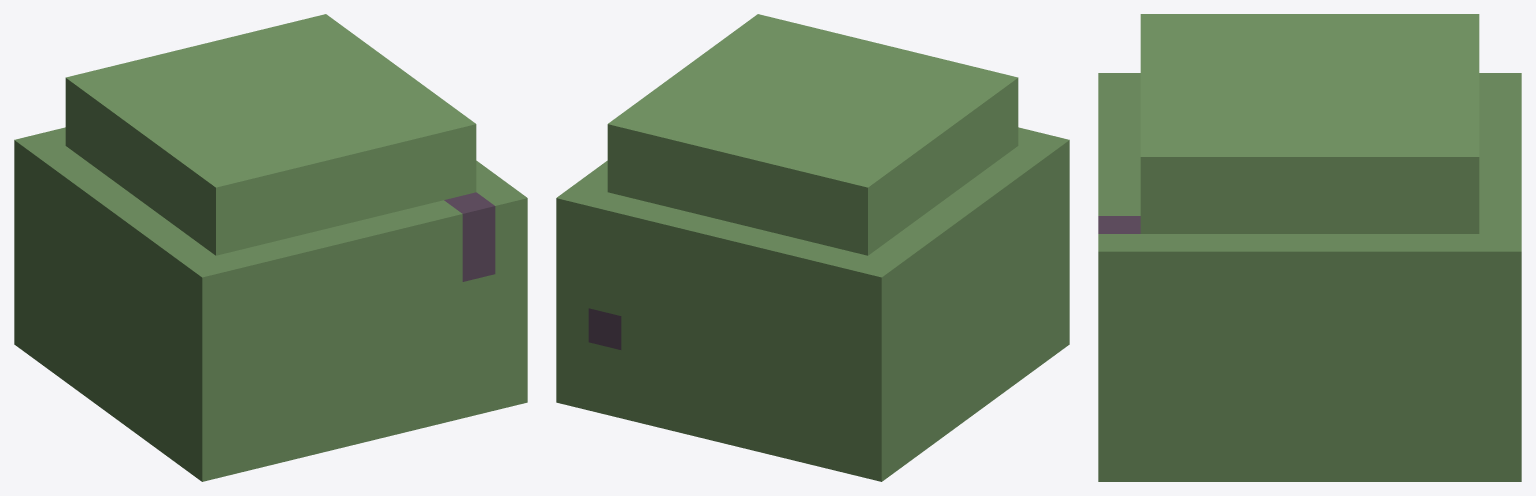
The model's file is grosella_negra_01.glb.
The picture shows the model from 3 angles, left to right: view 1: azimuth 30°, elevation 25°; view 2: azimuth 150°, elevation 25°; view 3: azimuth 270°, elevation 25°; orthographic projection. The views are drawn at different scales.
Parts seen in each view (by area): view 1: grosella_negra_01; view 2: grosella_negra_01; view 3: grosella_negra_01.
Boxes of the visible parts, box(x1,y1,x2,y2) form: grosella_negra_01: box(14, 14, 527, 481); grosella_negra_01: box(556, 14, 1069, 481); grosella_negra_01: box(1098, 14, 1521, 481).
Bounding box in the file's own units: 1 × 0.8 × 1.
